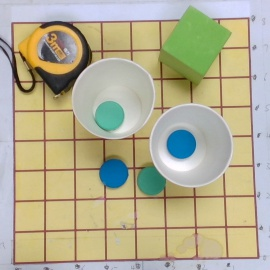blue: (99, 158, 130, 188)
cup_blue: (149, 104, 233, 190)
cup_green: (69, 56, 157, 143)
green: (137, 165, 166, 196)
